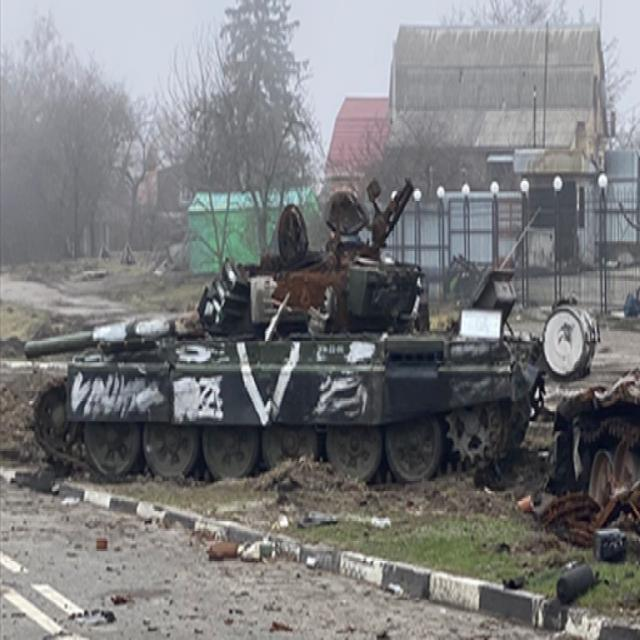TANK: (15, 214, 535, 494)
